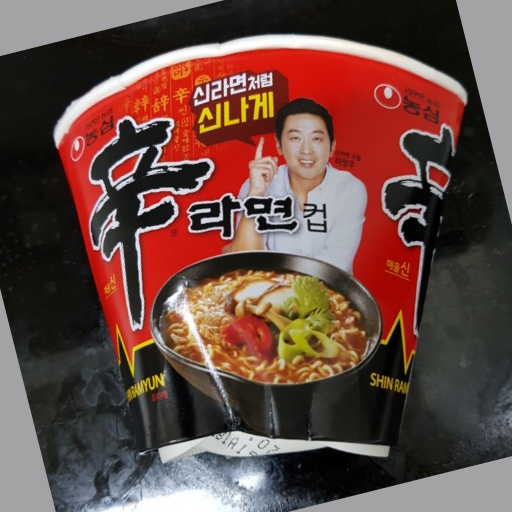Paper_1: (47, 36, 473, 472)
